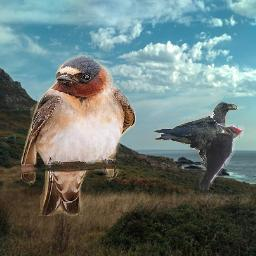Crow: (154, 102, 238, 171)
Swallow: (21, 55, 136, 216)
Woodpecker: (196, 123, 244, 190)
